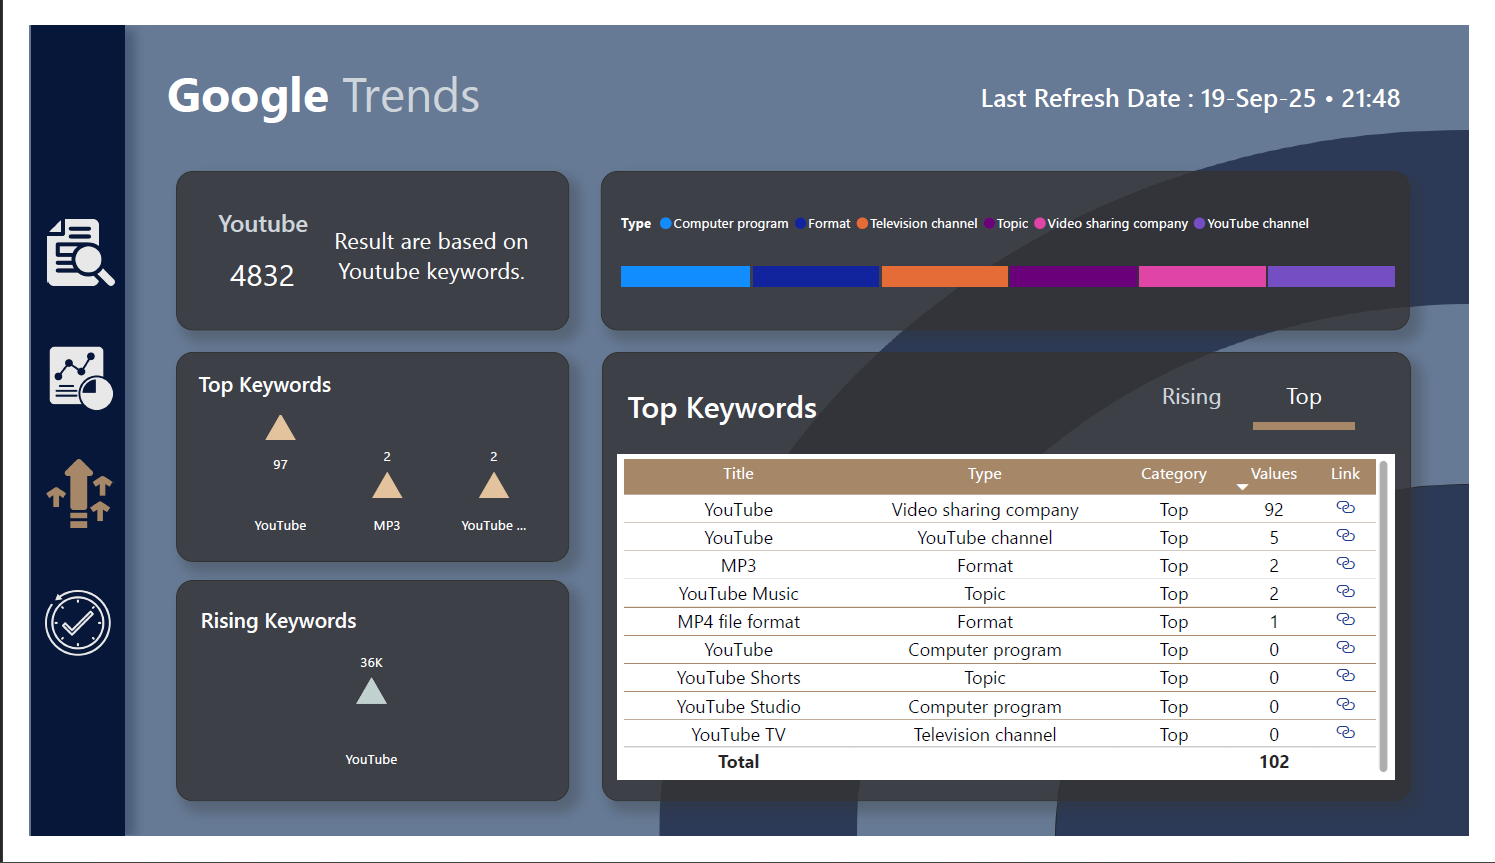

The page's visual inventory and layout, read from the dashboard file:
{"tool":"powerbi","page":{"name":"Rising & Top Keyword","canvas":[1280,720],"ordinal":2},"visuals":[{"type":"shape","box":[508.6,290,720,400],"z":0},{"type":"shape","box":[129.6,290,350,187.1],"z":1000},{"type":"shape","box":[129.6,492.8,350,197.1],"z":2000},{"type":"shape","box":[508.2,129.4,720,141.4],"z":3000},{"type":"shape","box":[129.6,129.4,350,141.4],"z":4000},{"type":"cardVisual","fields":{"Data":["By_Date.Imp_Value"]},"box":[156.7,160,101.4,87.1],"z":5000},{"type":"card","fields":{"Values":["Related Keyword Main.imp_short_title"]},"box":[239.6,158.6,235.7,87.1],"z":6000},{"type":"lineChart","title":"Top Keywords","fields":{"Category":["Top_Keywords.Title"],"Y":["Sum(Top_Keywords.Values)"]},"box":[145.3,305.7,315.7,154.3],"z":7000},{"type":"lineChart","title":"Rising Keywords","fields":{"Category":["Rising_Keywords.Title"],"Y":["Sum(Rising_Keywords.Values)"]},"box":[146.7,515.7,314.3,155.7],"z":8000},{"type":"hundredPercentStackedBarChart","fields":{"Y":["Sum(Rising_Keywords.Values)"],"Series":["Top_Keywords.Type"]},"box":[521.4,155.7,697.5,98.8],"z":9000},{"type":"advancedSlicerVisual","fields":{"Values":["Top_Rising.Category"]},"box":[984.3,290,200,74.3],"z":10000},{"type":"tableEx","fields":{"Values":["Top_Rising.Title","Top_Rising.Type","Top_Rising.Category","Sum(Top_Rising.Values)","Top_Rising.Link"]},"box":[522.9,381.4,691.4,290],"z":11000},{"type":"cardVisual","fields":{"Data":["Top_Rising.Title_tr"]},"box":[522.9,302.9,271.4,64.3],"z":12000},{"type":"shape","box":[1.4,0,82.9,720],"z":13000},{"type":"image","box":[7.8,495.7,70,70],"z":14000},{"type":"image","box":[11.4,167.1,69,69],"z":15000},{"type":"image","box":[8.6,381.4,70,70],"z":16000},{"type":"image","box":[10,277.1,71.4,71.4],"z":17000},{"type":"card","fields":{"Values":["Min(Refresh_Date.Refresh_Date)"]},"box":[808.3,23.3,450,83.3],"z":18000},{"type":"textbox","box":[117.1,25.7,318.6,78.6],"z":19000}]}

Visuals, with their boxes on the page's 1280x720 design canvas (x1, y1, x2, y2). These are canvas units, not pixel positions in the 1495x863 screenshot, which may show the page scaled, cropped or inside an application window:
shape: bbox=(509, 290, 1229, 690)
shape: bbox=(130, 290, 480, 477)
shape: bbox=(130, 493, 480, 690)
shape: bbox=(508, 129, 1228, 271)
shape: bbox=(130, 129, 480, 271)
cardVisual - By_Date.Imp_Value: bbox=(157, 160, 258, 247)
card - Related Keyword Main.imp_short_title: bbox=(240, 159, 475, 246)
"Top Keywords" lineChart: bbox=(145, 306, 461, 460)
"Rising Keywords" lineChart: bbox=(147, 516, 461, 671)
hundredPercentStackedBarChart - Sum(Rising_Keywords.Values) x Top_Keywords.Type: bbox=(521, 156, 1219, 254)
advancedSlicerVisual - Top_Rising.Category: bbox=(984, 290, 1184, 364)
tableEx - Top_Rising.Title x Top_Rising.Type: bbox=(523, 381, 1214, 671)
cardVisual - Top_Rising.Title_tr: bbox=(523, 303, 794, 367)
shape: bbox=(1, 0, 84, 720)
image: bbox=(8, 496, 78, 566)
image: bbox=(11, 167, 80, 236)
image: bbox=(9, 381, 79, 451)
image: bbox=(10, 277, 81, 348)
card - Min(Refresh_Date.Refresh_Date): bbox=(808, 23, 1258, 107)
textbox: bbox=(117, 26, 436, 104)
